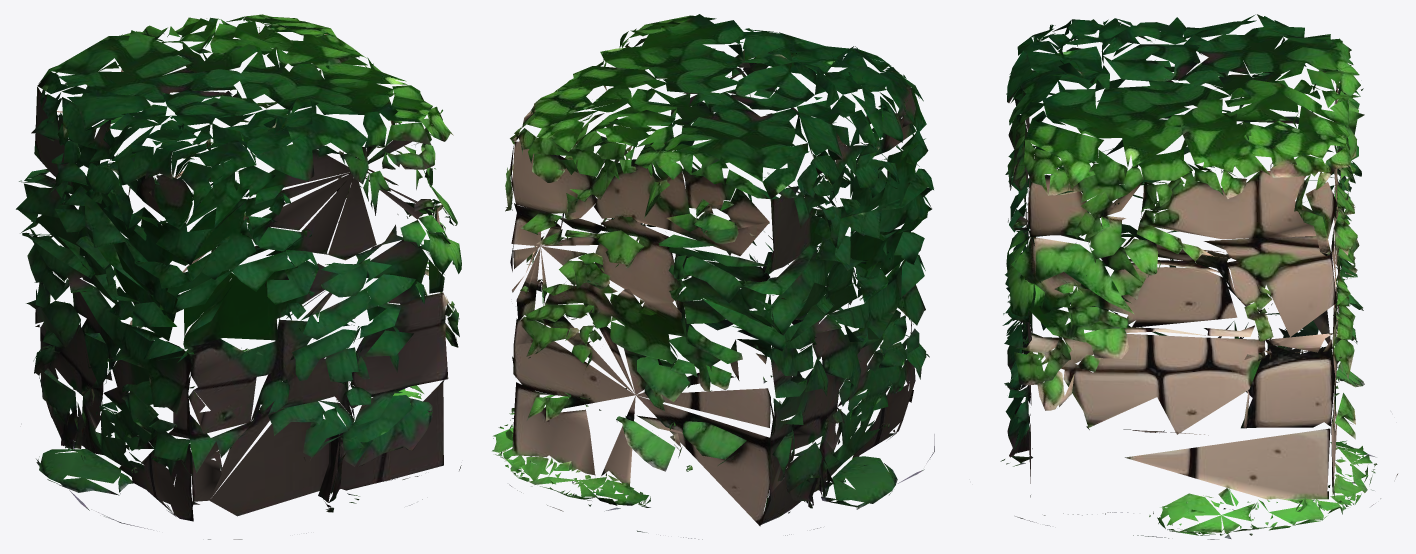
Rendered from golge_duvar.glb.
3 views of the same model, side by side, from view 1: azimuth 30°, elevation 25°; view 2: azimuth 150°, elevation 25°; view 3: azimuth 270°, elevation 25° (orthographic). The views are drawn at different scales.
Visible parts, largest first — view 1: geometry_0; view 2: geometry_0; view 3: geometry_0.
Boxes of the visible parts, bbox=[...] form: geometry_0: bbox=[16, 14, 461, 539]; geometry_0: bbox=[492, 14, 934, 539]; geometry_0: bbox=[1000, 14, 1397, 539].
Bounding box in the file's own units: 0.9489 × 0.9335 × 0.9533.
Materials: 1 (1 with a texture image).
